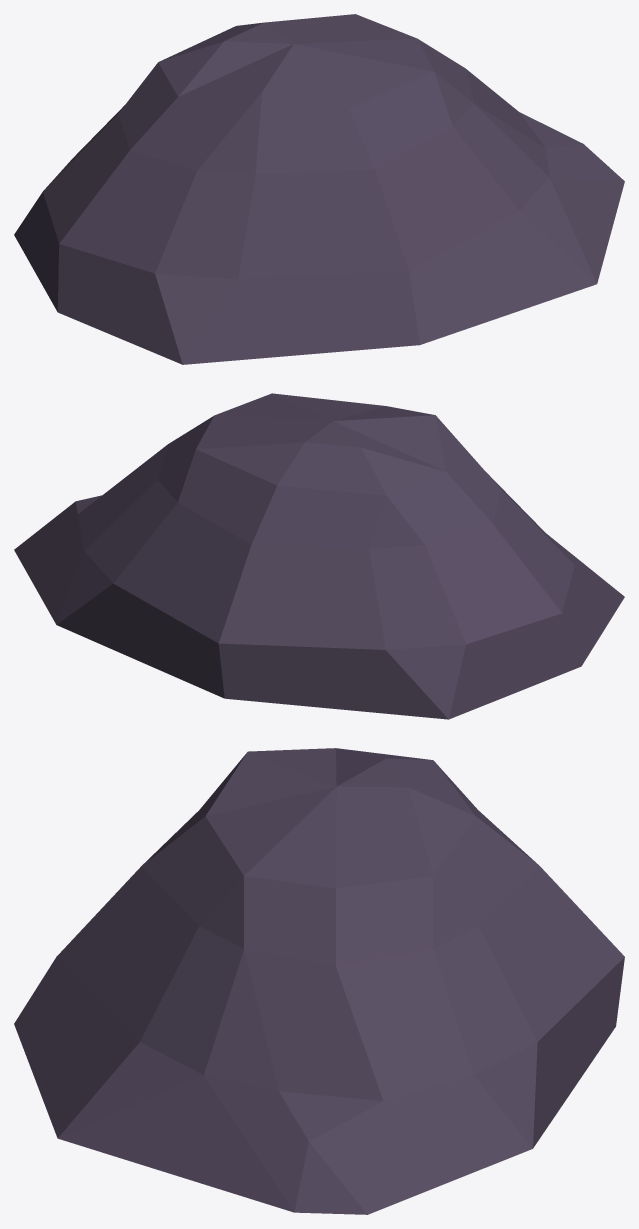
File: SM_rock_small_01.fbx
3 views of the same model, one above another, from view 1: azimuth 30°, elevation 25°; view 2: azimuth 150°, elevation 25°; view 3: azimuth 270°, elevation 25° (orthographic). The views are drawn at different scales.
Parts seen in each view (by area): view 1: rock_small_01; view 2: rock_small_01; view 3: rock_small_01.
Boxes of the visible parts, <box> form: rock_small_01: <box>14,14,624,364</box>; rock_small_01: <box>14,393,624,719</box>; rock_small_01: <box>14,748,624,1214</box>.
Size of the model in its own units: 149 by 50.73 by 116.
